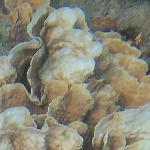dead: (11, 27, 148, 147)
